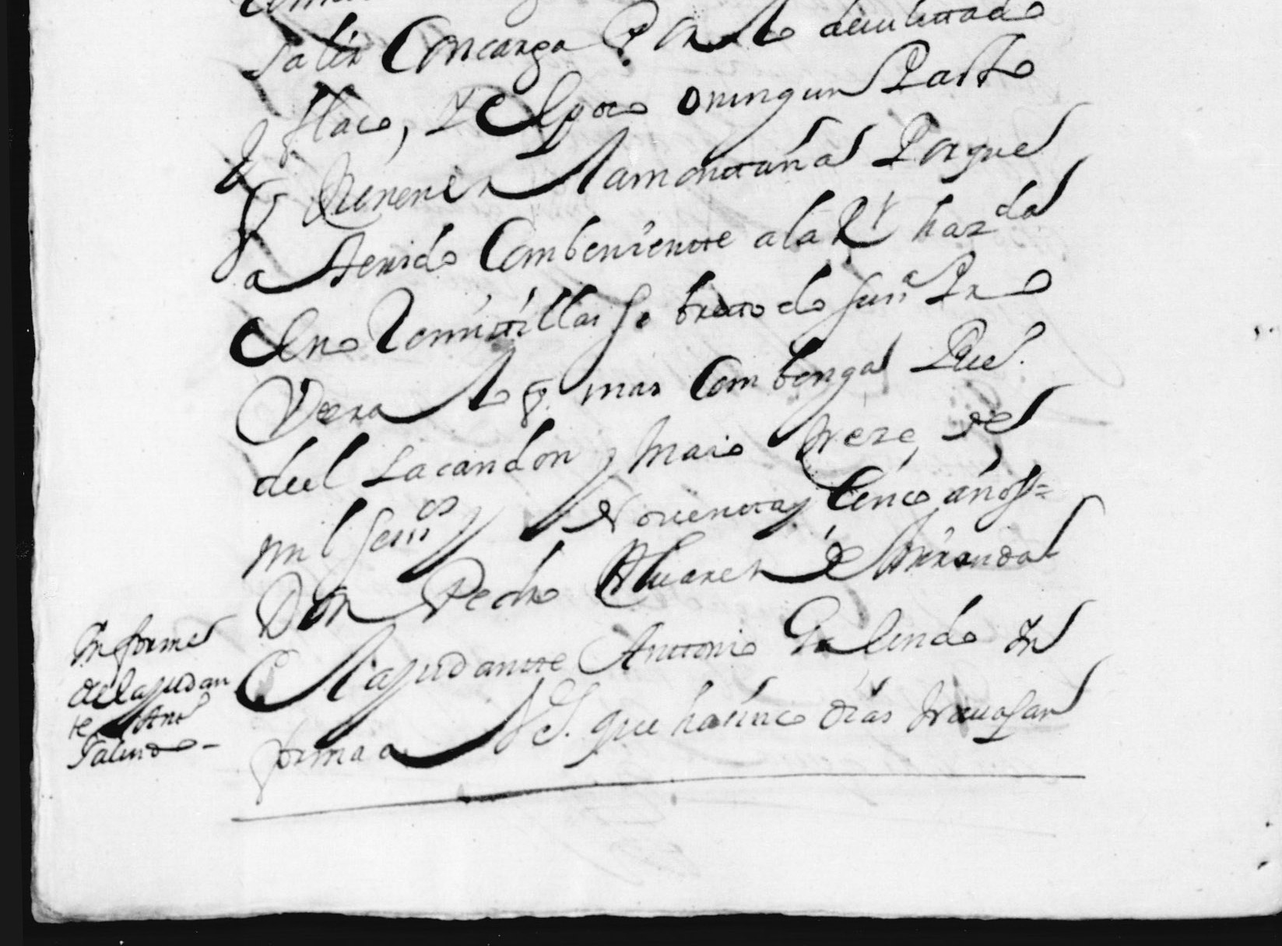lacandon: (361, 417, 580, 487)
